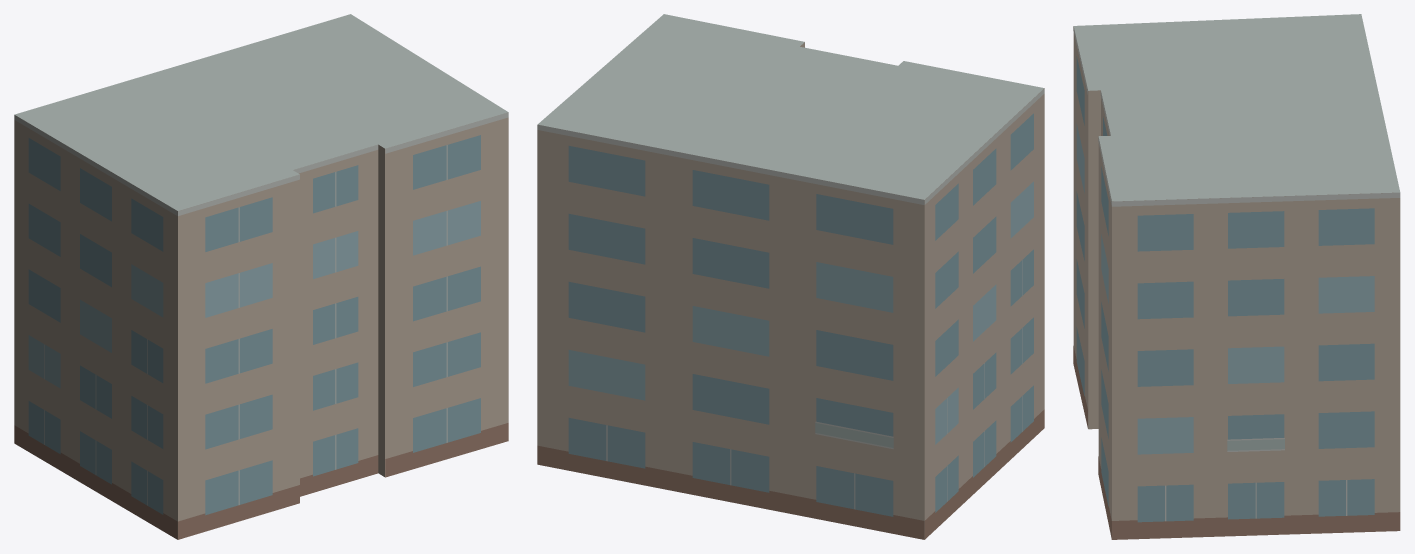
The model's file is survey-upis-33021444.glb.
3 renders of one model, left to right at view 1: azimuth 30°, elevation 25°; view 2: azimuth 150°, elevation 25°; view 3: azimuth 270°, elevation 25°, orthographic. The views are drawn at different scales.
Parts seen in each view (by area): view 1: survey-upis-33021444.tmp; view 2: survey-upis-33021444.tmp; view 3: survey-upis-33021444.tmp.
Part boxes in pixels (bbox=[...]): survey-upis-33021444.tmp: bbox=[14, 14, 508, 539]; survey-upis-33021444.tmp: bbox=[537, 14, 1044, 539]; survey-upis-33021444.tmp: bbox=[1073, 14, 1400, 539].
Bounding box in the file's own units: 18.48 × 15.55 × 13.62.
